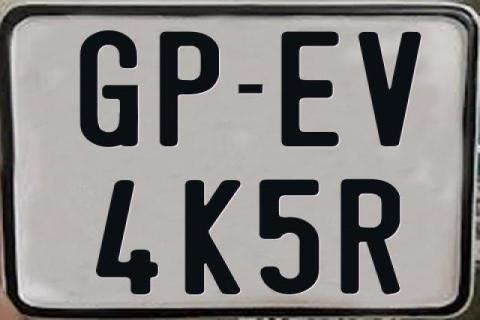0: (94, 179, 162, 299), (256, 178, 322, 298)
E: (278, 32, 342, 152)
G: (78, 28, 136, 145)
K: (183, 177, 241, 297)
P: (161, 31, 224, 147)
R: (338, 177, 400, 293)
V: (356, 29, 420, 149)
